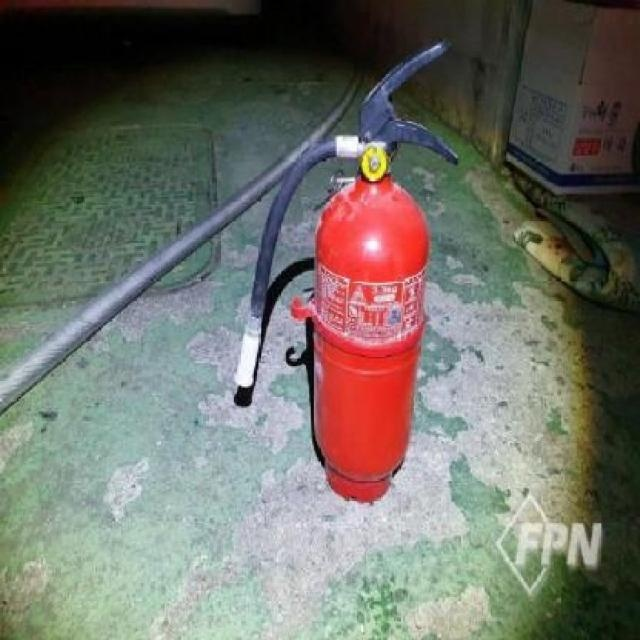fire extinguisher: (234, 35, 460, 503)
